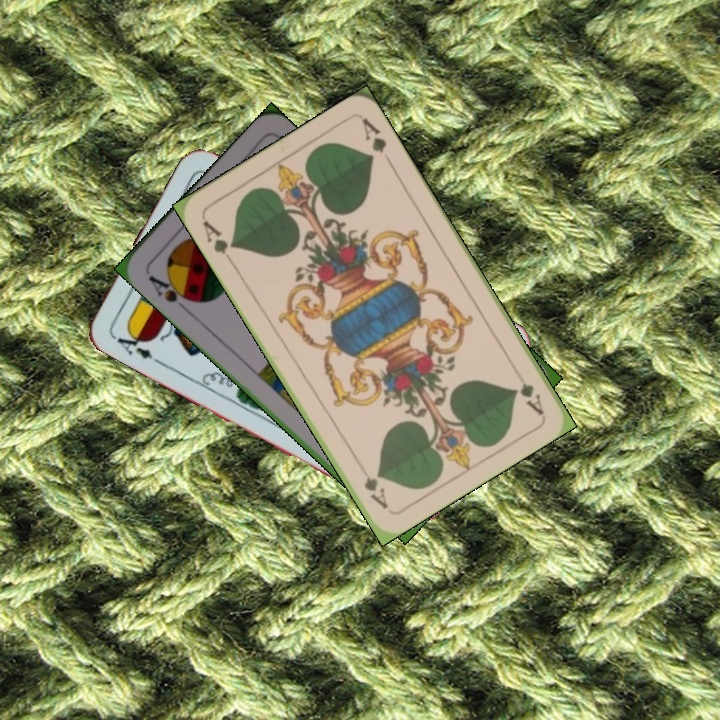EA: (109, 325, 155, 362)
GA: (198, 216, 238, 267), (512, 378, 547, 418)
SA: (143, 271, 198, 314)
